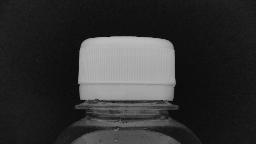Good Cap: (70, 34, 182, 114)
